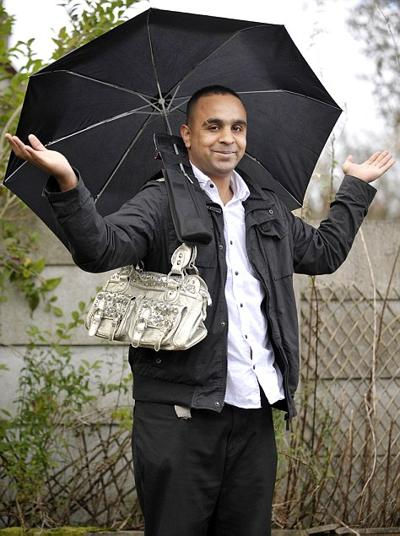person: (3, 86, 397, 536)
